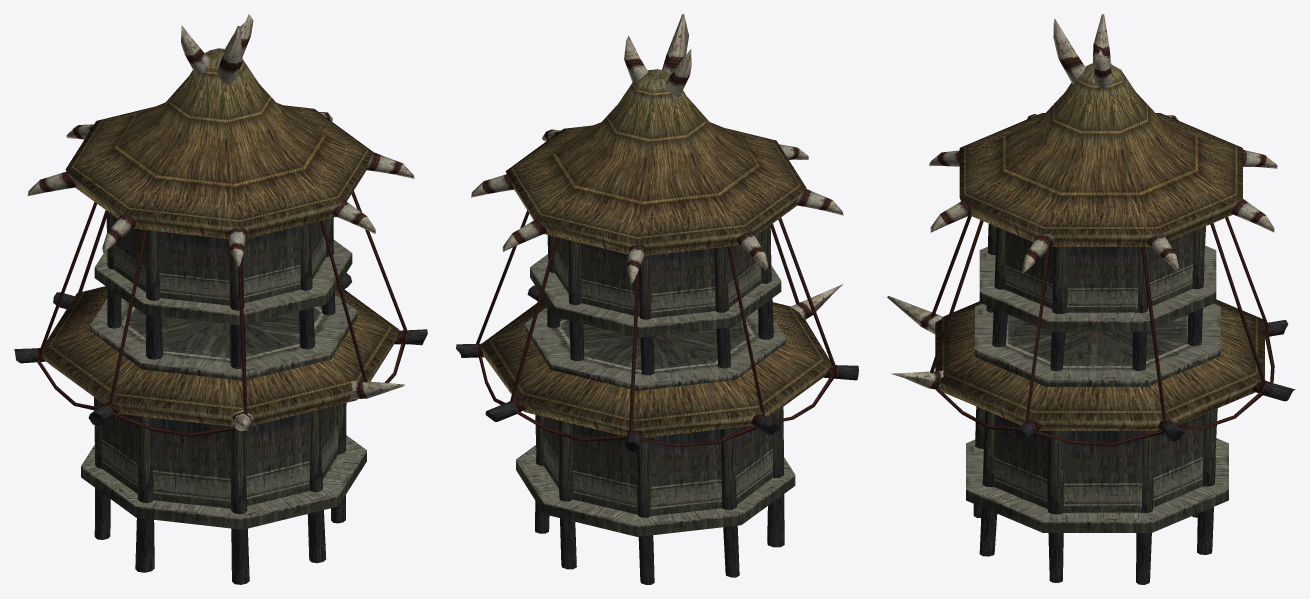
File: camp_redthief_build_08.fbx
The picture shows the model from 3 angles, left to right: view 1: azimuth 30°, elevation 25°; view 2: azimuth 150°, elevation 25°; view 3: azimuth 270°, elevation 25°; orthographic projection. The views are drawn at different scales.
Parts seen in each view (by area): view 1: camp_redthief_build_08; view 2: camp_redthief_build_08; view 3: camp_redthief_build_08.
Part boxes in pixels (x1,y1,x2,y2): camp_redthief_build_08: [14, 14, 427, 584]; camp_redthief_build_08: [456, 14, 858, 584]; camp_redthief_build_08: [887, 14, 1295, 584].
Bounding box in the file's own units: 9.95 × 14.65 × 10.55.
